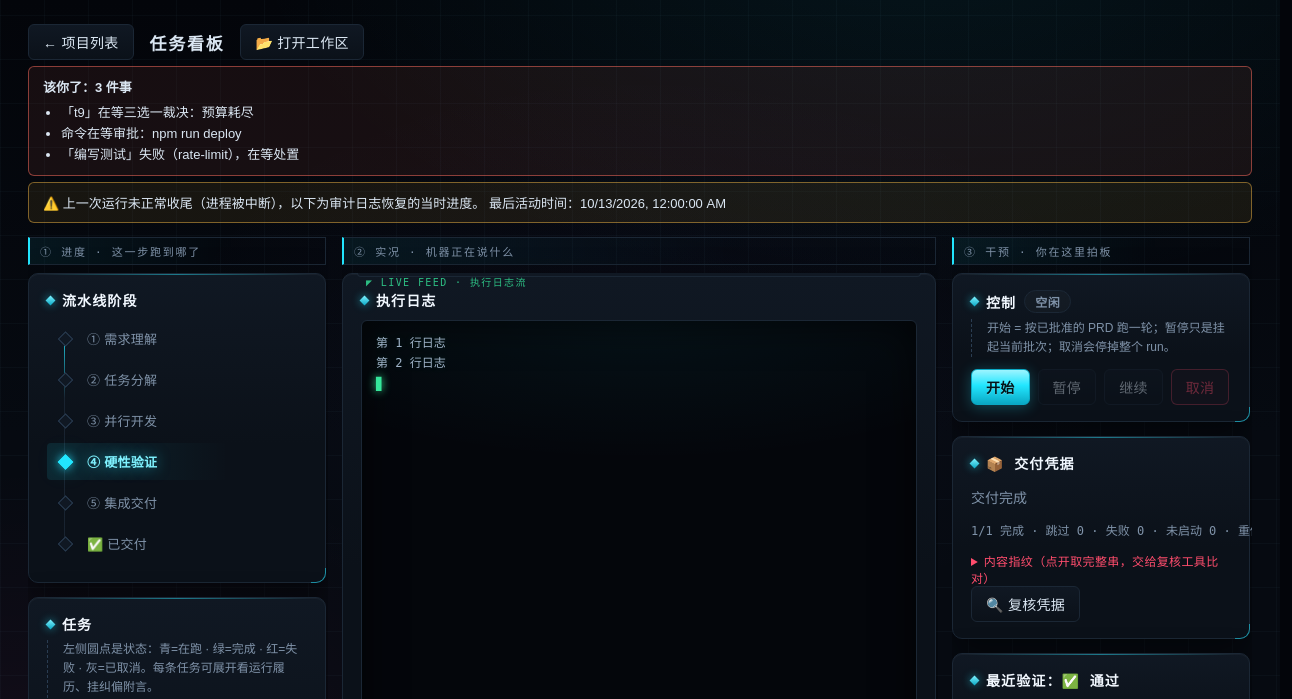
BoardPage › 凭据卡一键复核并摆出五档裁决（2026-10-13：把 receipt:verify 接上 UI）
Click the button "🔍 复核凭据" at (1026, 604), box [971,586,1080,622]
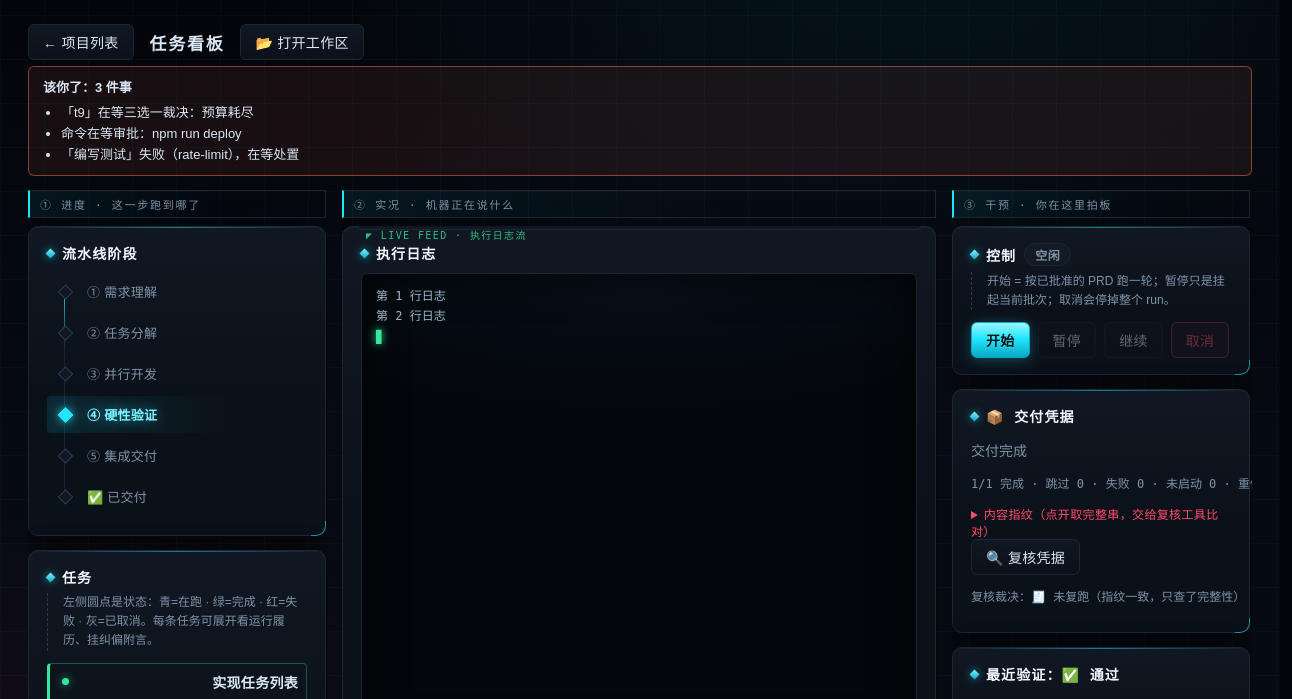
expect the text "复核裁决：🧾 未复跑（指纹一致，只查了完整性） · 未复跑" is shown: met, box [971,587,1231,604]
